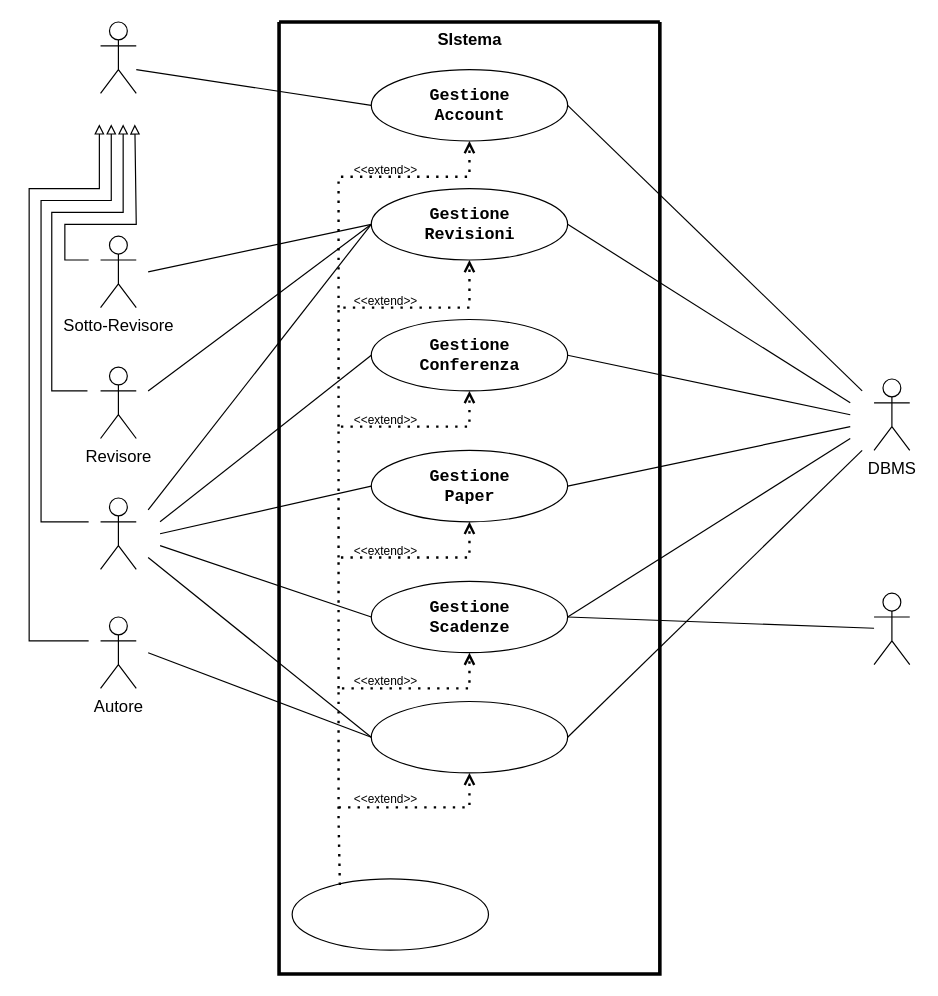
This 938x996 diagram has some shape labels left out. The shapes that lost their labels are listed below. From the top down, each one's centre as x and y in pixels, then its label:
(x=117, y=57): Utente
(x=117, y=533): Chair
(x=891, y=628): Tempo
(x=469, y=736): Gestione Pubblicazione
(x=389, y=914): Errore di comunicazione con il DBMS
